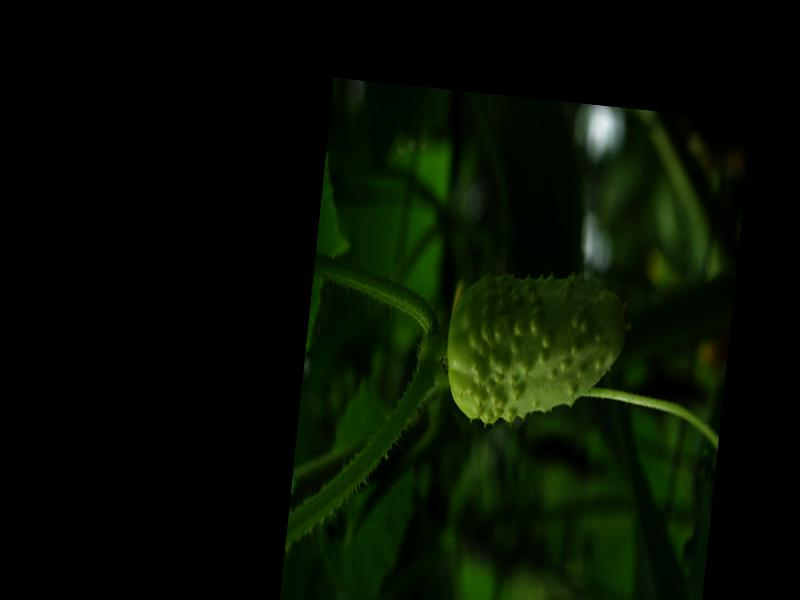Cucumber: (439, 265, 637, 439)
